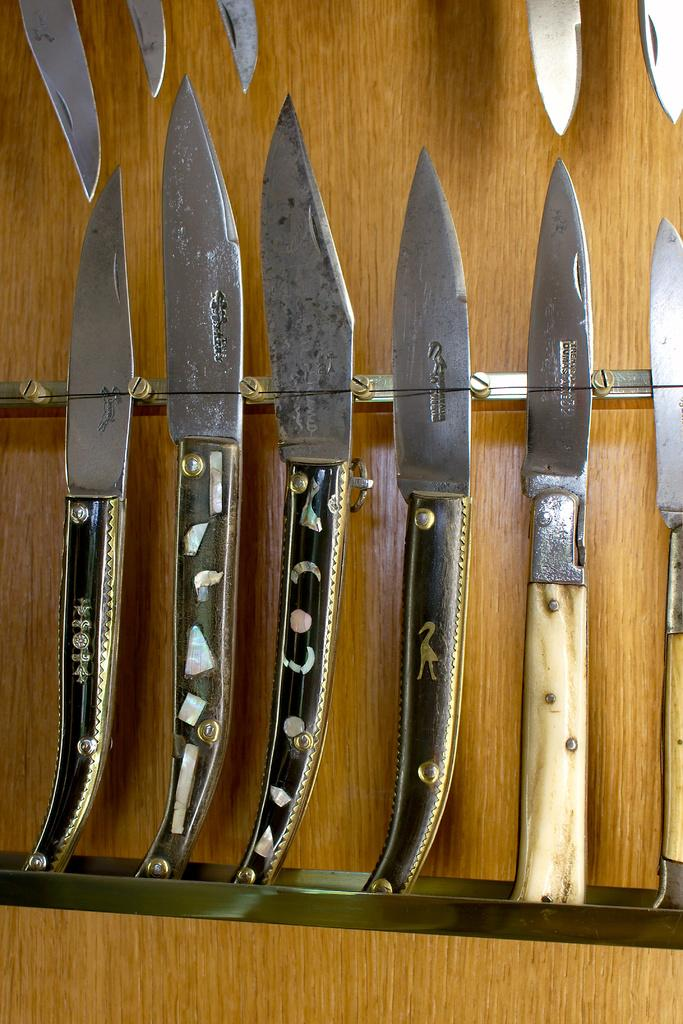Knife: (257, 92, 362, 896), (28, 156, 140, 875), (166, 77, 252, 888), (505, 154, 595, 906), (395, 144, 470, 903), (646, 218, 682, 914), (15, 0, 97, 195), (527, 0, 589, 135), (642, 0, 682, 127), (124, 0, 176, 97), (218, 0, 262, 86)
